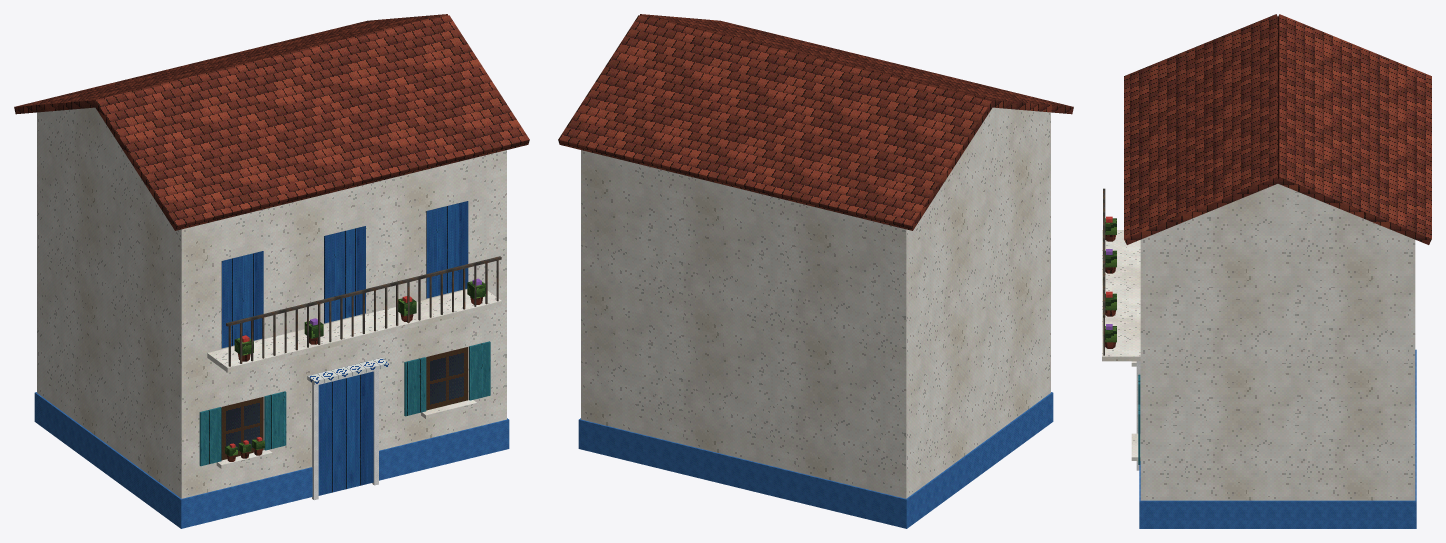
The model's file is casa_blanca_alta.obj.
3 renders of one model, left to right at view 1: azimuth 30°, elevation 25°; view 2: azimuth 150°, elevation 25°; view 3: azimuth 270°, elevation 25°, orthographic. The views are drawn at different scales.
Parts seen in each view (by area): view 1: casa_blanca_alta; view 2: casa_blanca_alta; view 3: casa_blanca_alta.
Part boxes in pixels (bbox=[...]): casa_blanca_alta: bbox=[14, 14, 529, 528]; casa_blanca_alta: bbox=[558, 14, 1073, 528]; casa_blanca_alta: bbox=[1102, 14, 1431, 528].
Size of the model in its own units: 7.6 by 7.81 by 6.49.
12 materials, 12 textured.
